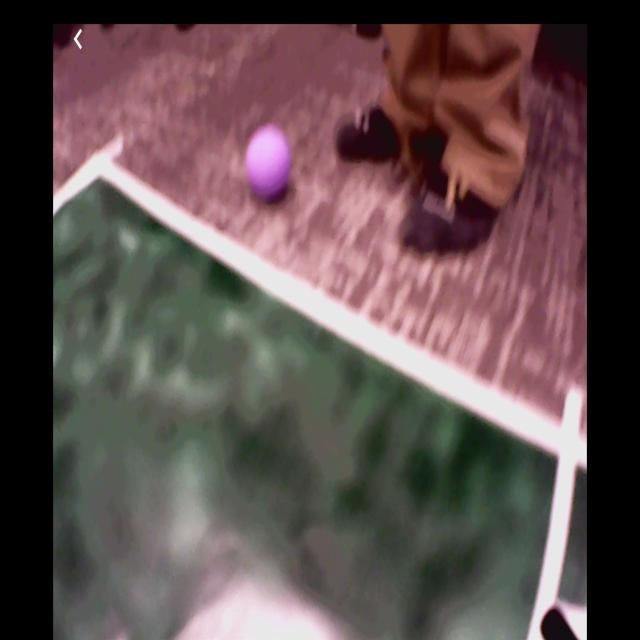ball: (247, 126, 292, 201)
